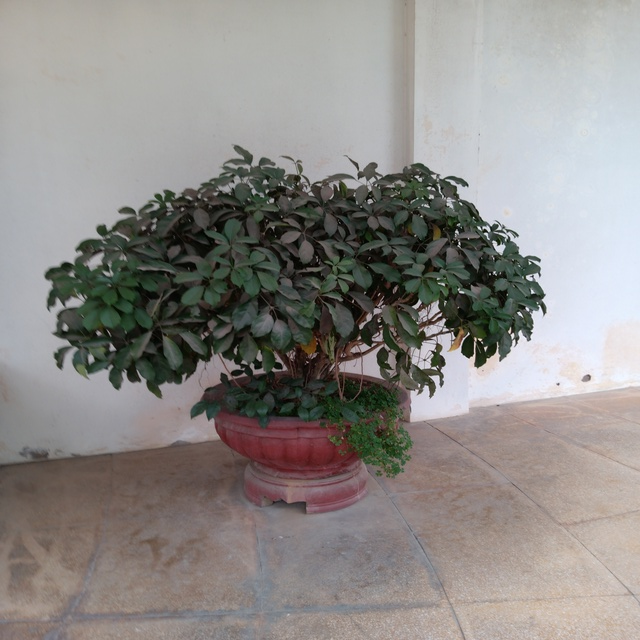caycanh: (69, 148, 544, 515)
